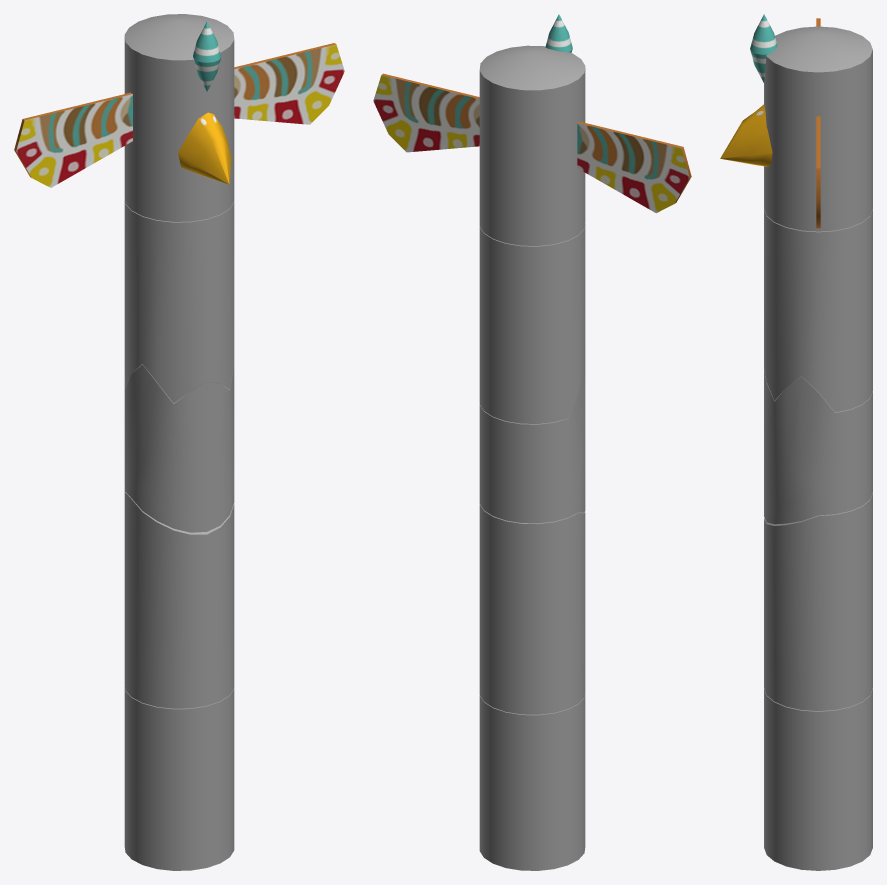
The model's file is MtotemFull.fbx.
The picture shows the model from 3 angles, left to right: view 1: azimuth 30°, elevation 25°; view 2: azimuth 150°, elevation 25°; view 3: azimuth 270°, elevation 25°; orthographic projection. The views are drawn at different scales.
Visible parts, largest first — view 1: totem5, totem2, totem4, totem1, totem3; view 2: totem5, totem2, totem4, totem1, totem3; view 3: totem5, totem2, totem4, totem1, totem3.
Part boxes in pixels (left/top/right/bottom): totem5: left=14, top=14, right=344, bottom=221; totem2: left=124, top=487, right=234, bottom=708; totem4: left=124, top=199, right=234, bottom=403; totem1: left=124, top=685, right=234, bottom=870; totem3: left=124, top=364, right=234, bottom=532; totem5: left=373, top=14, right=691, bottom=245; totem2: left=479, top=504, right=585, bottom=714; totem4: left=479, top=223, right=585, bottom=423; totem1: left=479, top=692, right=585, bottom=870; totem3: left=479, top=371, right=585, bottom=523; totem5: left=720, top=14, right=872, bottom=231; totem2: left=764, top=493, right=872, bottom=710; totem4: left=764, top=209, right=872, bottom=412; totem1: left=764, top=689, right=872, bottom=870; totem3: left=764, top=369, right=872, bottom=524.
Bounding box in the file's own units: 179 × 441 × 73.17.
